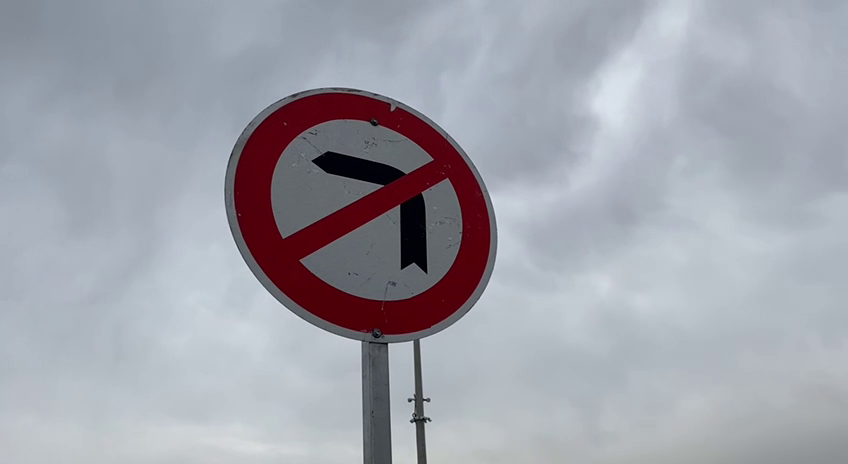noTurnLeft: (221, 83, 506, 346)
